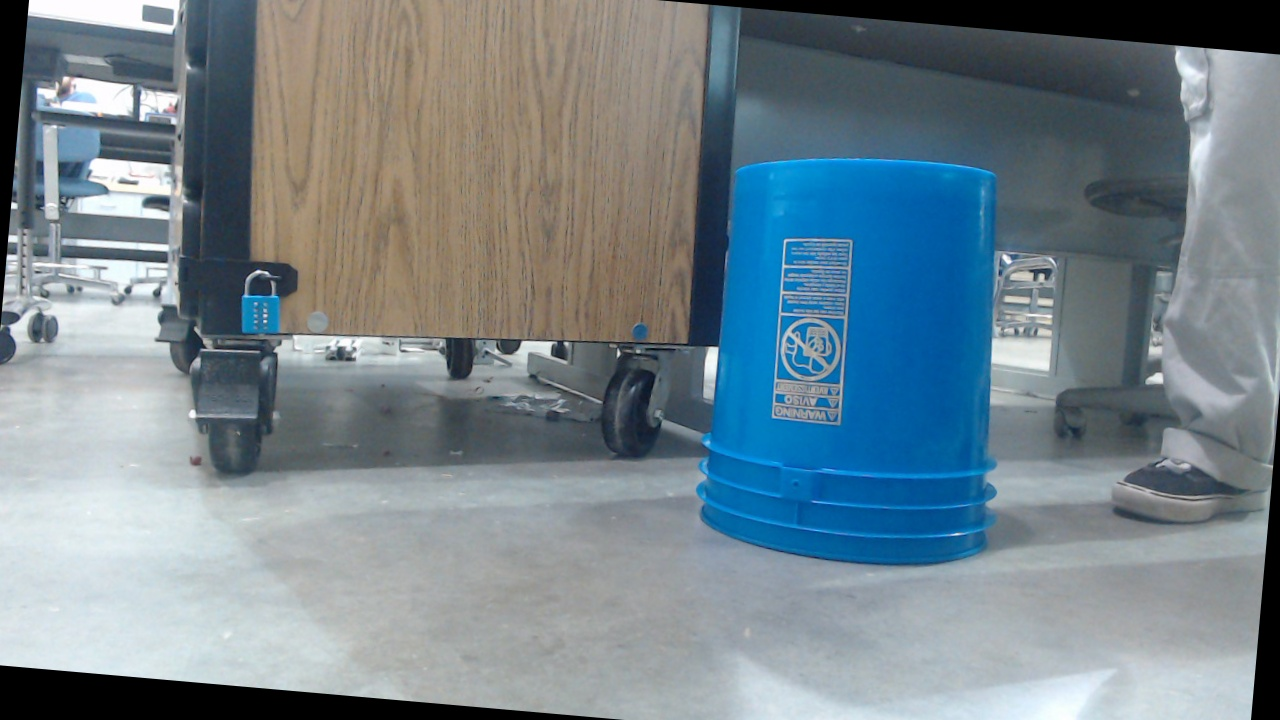blue_bucket: (689, 103, 1033, 547)
